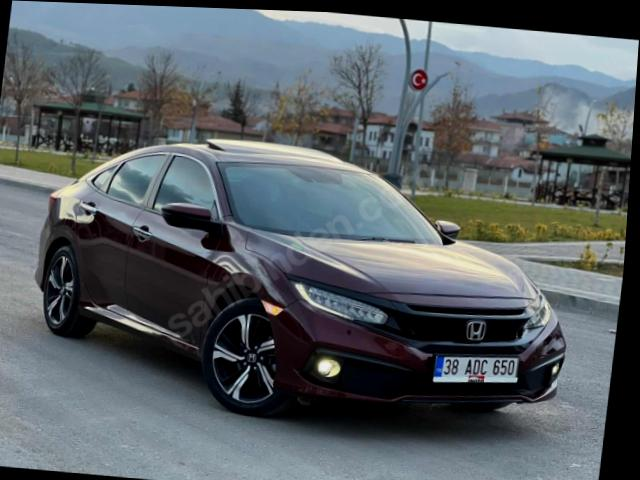plaka: (433, 357, 517, 383)
